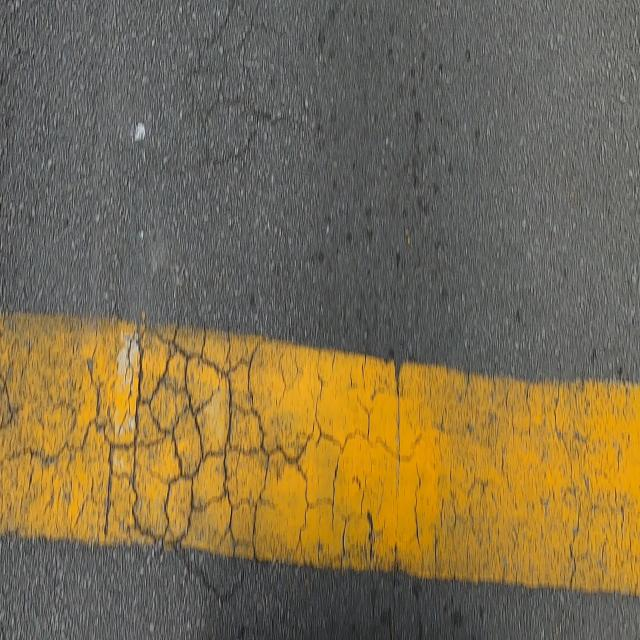Retak-Buaya: (71, 323, 408, 615), (182, 1, 280, 170)
